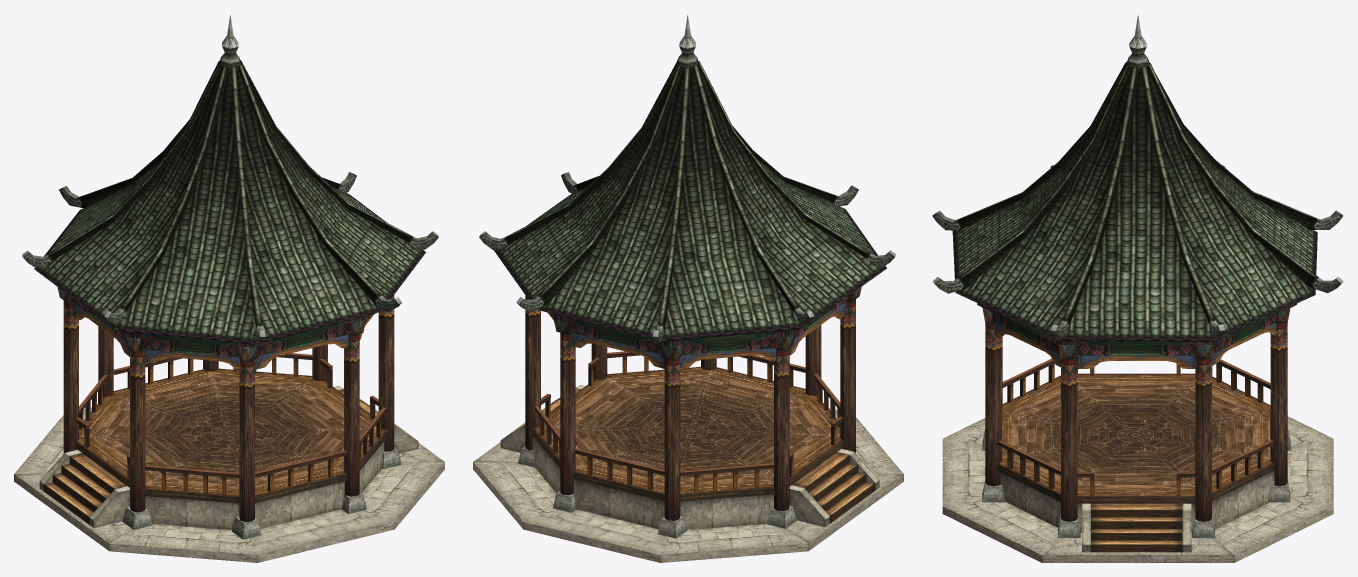
File: c1-001-house3.fbx
3 views of the same model, side by side, from view 1: azimuth 30°, elevation 25°; view 2: azimuth 150°, elevation 25°; view 3: azimuth 270°, elevation 25° (orthographic).
Parts seen in each view (by area): view 1: b1-001-house3; view 2: b1-001-house3; view 3: b1-001-house3.
Part boxes in pixels (box(x1,y1,x2,y2)): b1-001-house3: box(14, 15, 444, 562); b1-001-house3: box(473, 15, 903, 562); b1-001-house3: box(932, 14, 1343, 562).
Bounding box in the file's own units: 8.17 × 10.72 × 8.58.
